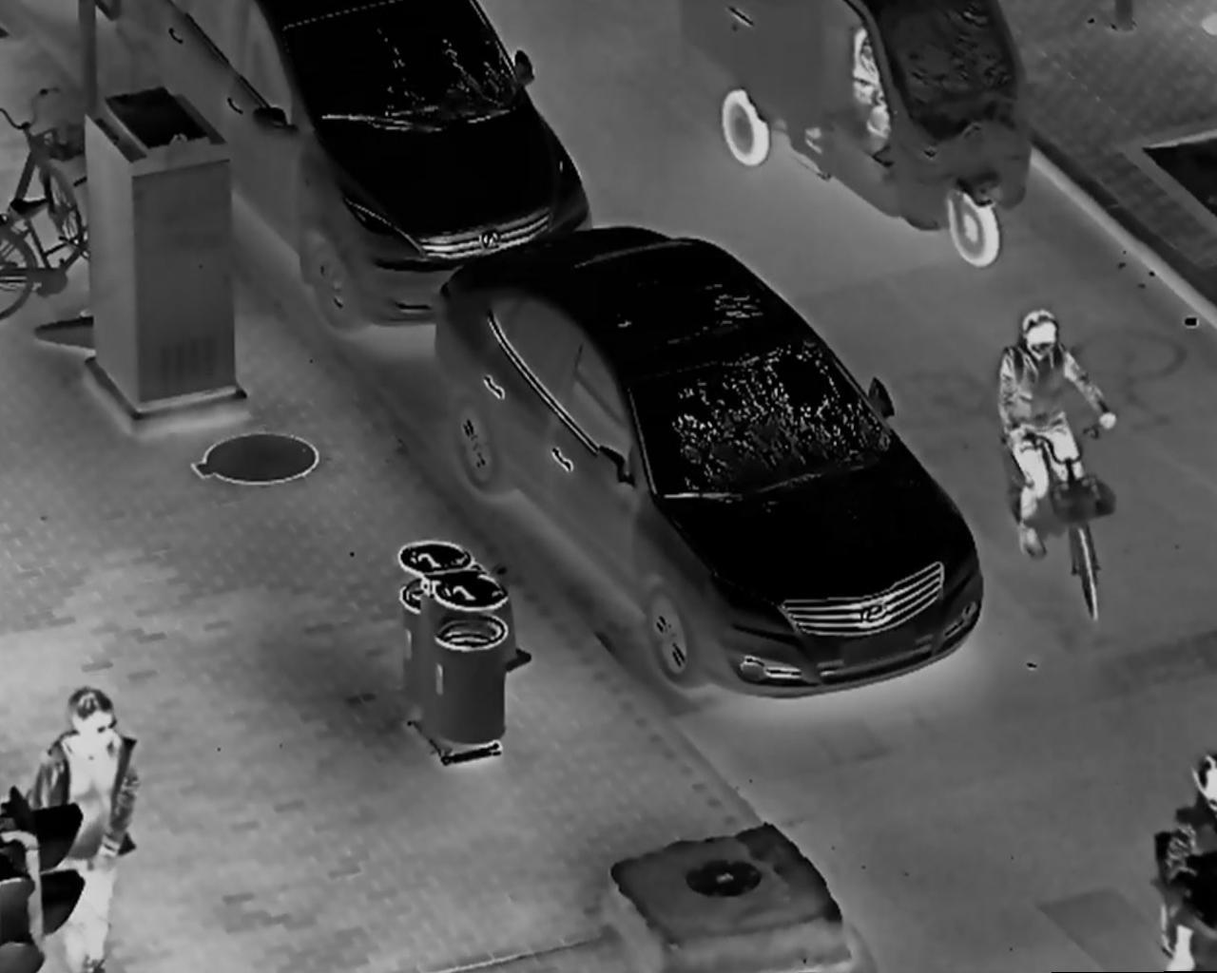person: (30, 684, 143, 973), (995, 306, 1119, 561), (1158, 746, 1217, 973)
